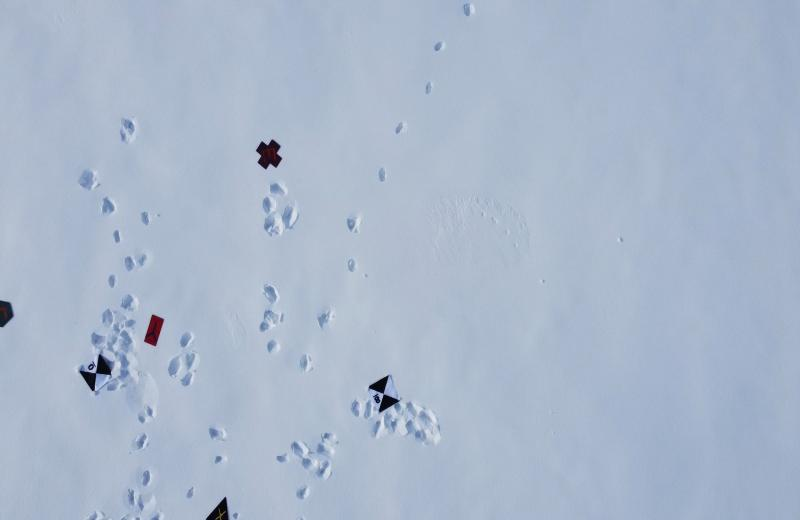Cross: (251, 134, 284, 175)
Rectangle: (140, 308, 166, 348)
Triangle: (197, 488, 233, 520)
